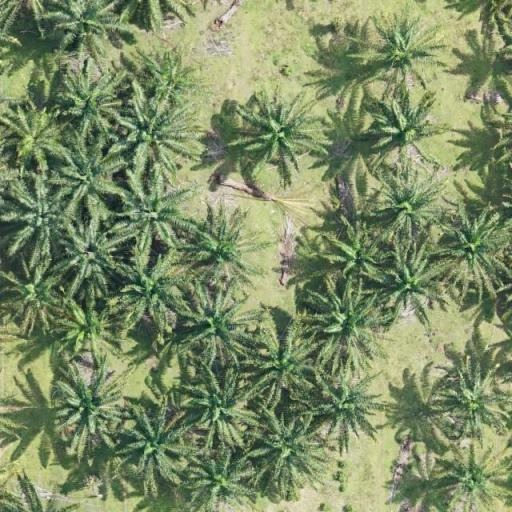Ganoderma: (374, 26, 428, 78), (450, 454, 499, 502)
